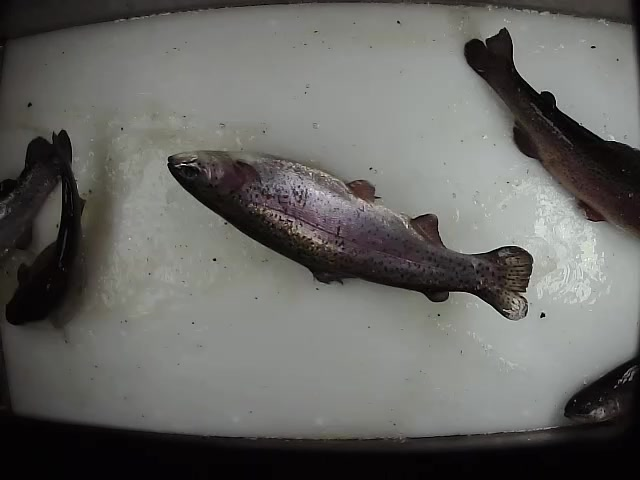fish: (166, 148, 537, 327)
